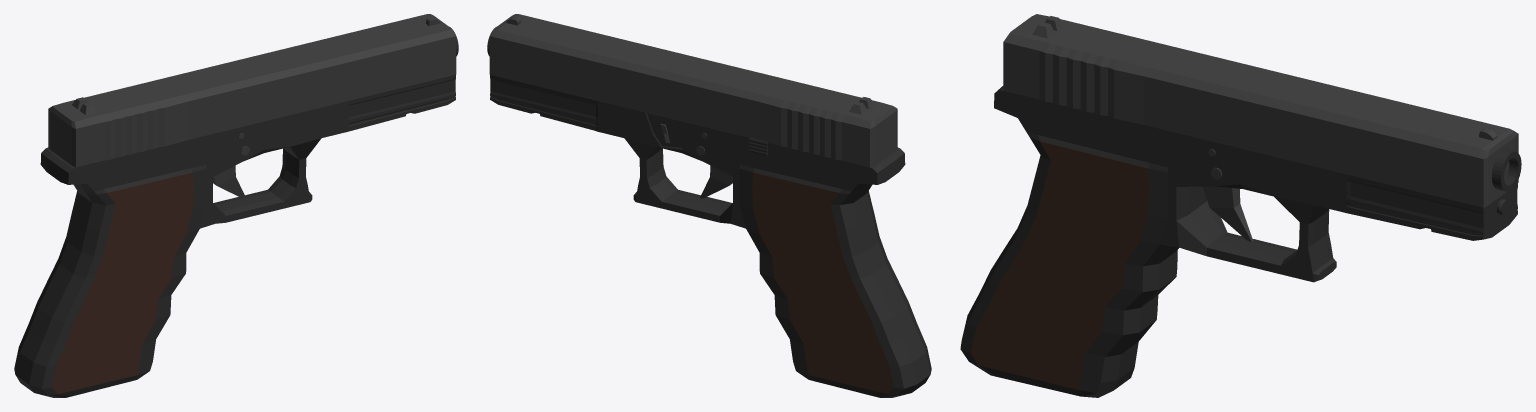
File: TestPistol.fbx
The picture shows the model from 3 angles, left to right: view 1: azimuth 30°, elevation 25°; view 2: azimuth 150°, elevation 25°; view 3: azimuth 330°, elevation 25°; orthographic projection. The views are drawn at different scales.
Visible parts, largest first — view 1: SPP23, TopPart, Trigger; view 2: SPP23, TopPart, Trigger; view 3: SPP23, TopPart, Trigger, Barrel.
Boxes of the visible parts, <box> form: SPP23: <box>14,74,455,397</box>; TopPart: <box>48,14,456,167</box>; Trigger: <box>213,165,245,198</box>; SPP23: <box>490,74,931,397</box>; TopPart: <box>489,14,897,167</box>; Trigger: <box>700,165,732,198</box>; SPP23: <box>960,86,1517,397</box>; TopPart: <box>1003,14,1518,207</box>; Trigger: <box>1203,186,1253,241</box>; Barrel: <box>1492,149,1521,214</box>.
Bounding box in the file's own units: 0.0427 × 0.2215 × 0.3519.
Materials: 1 (1 with a texture image).
